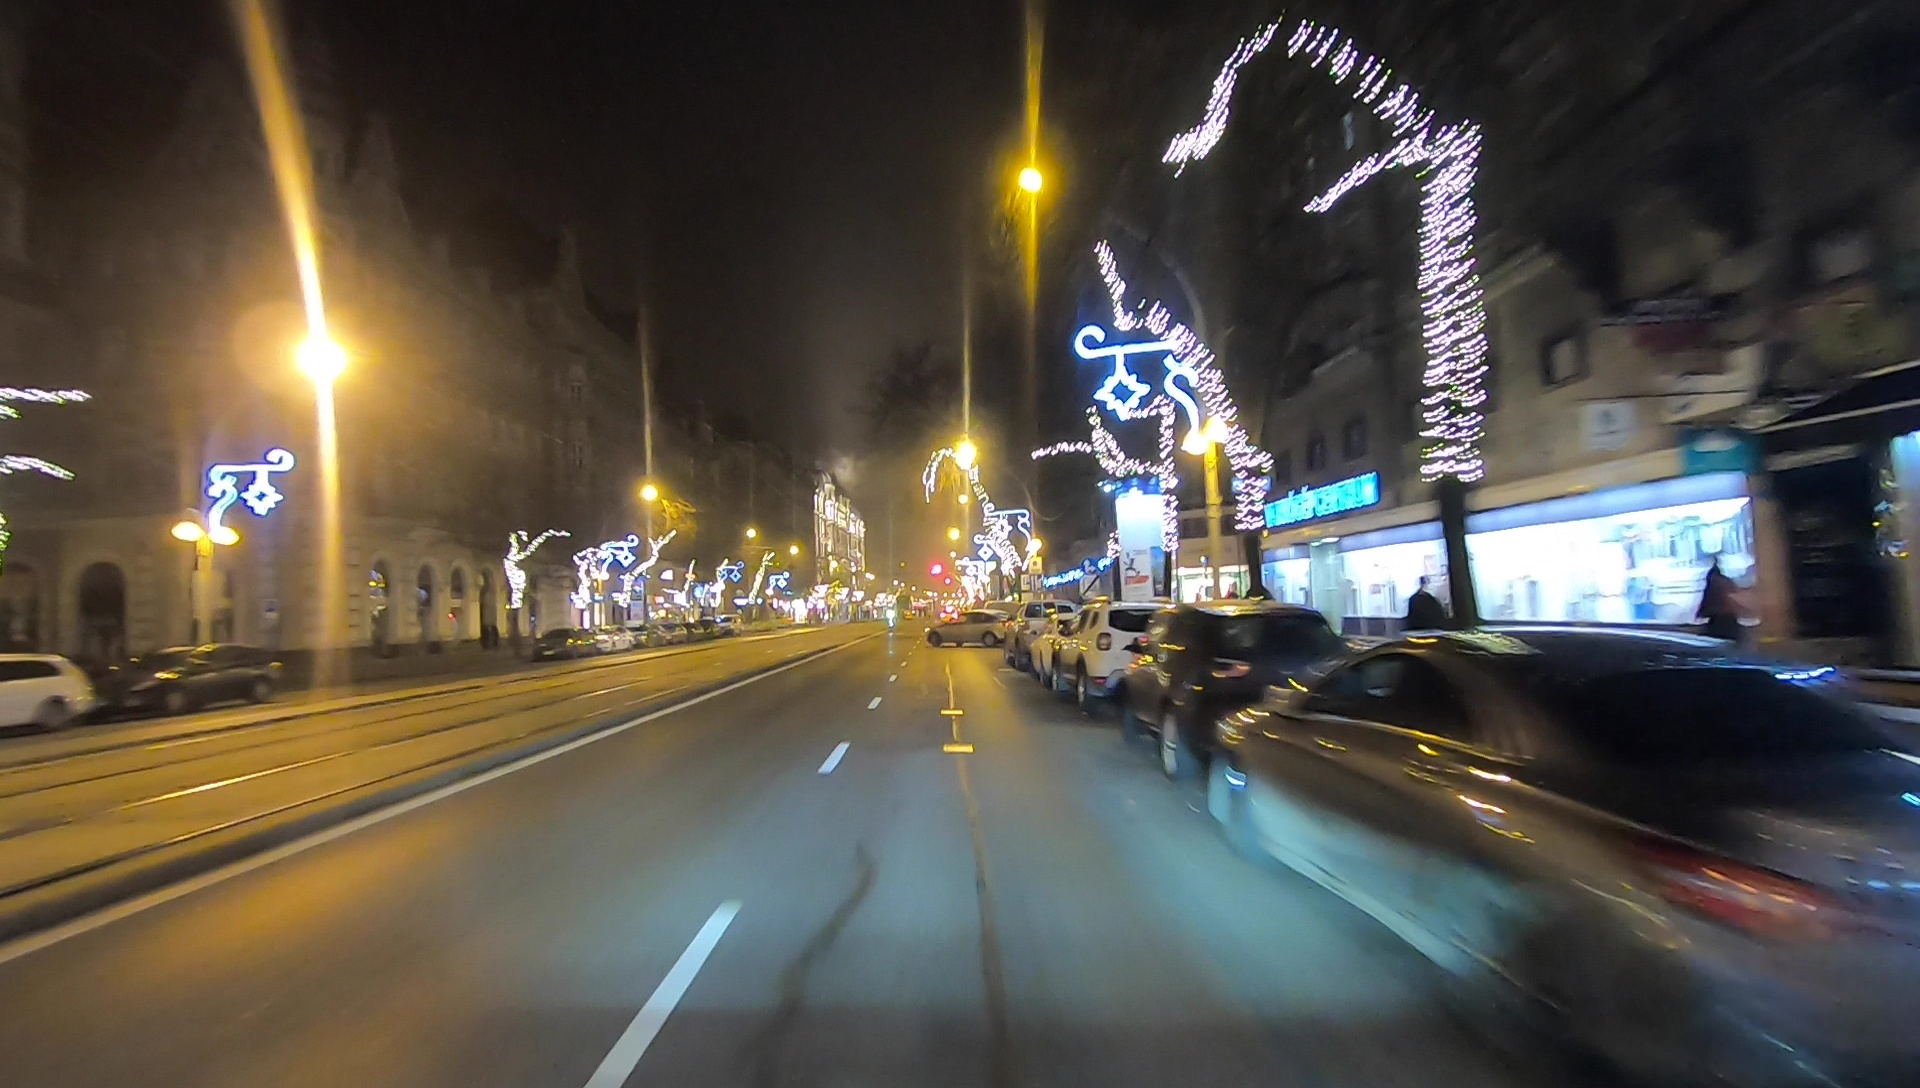person: (1695, 561, 1747, 687), (1404, 580, 1451, 682)
